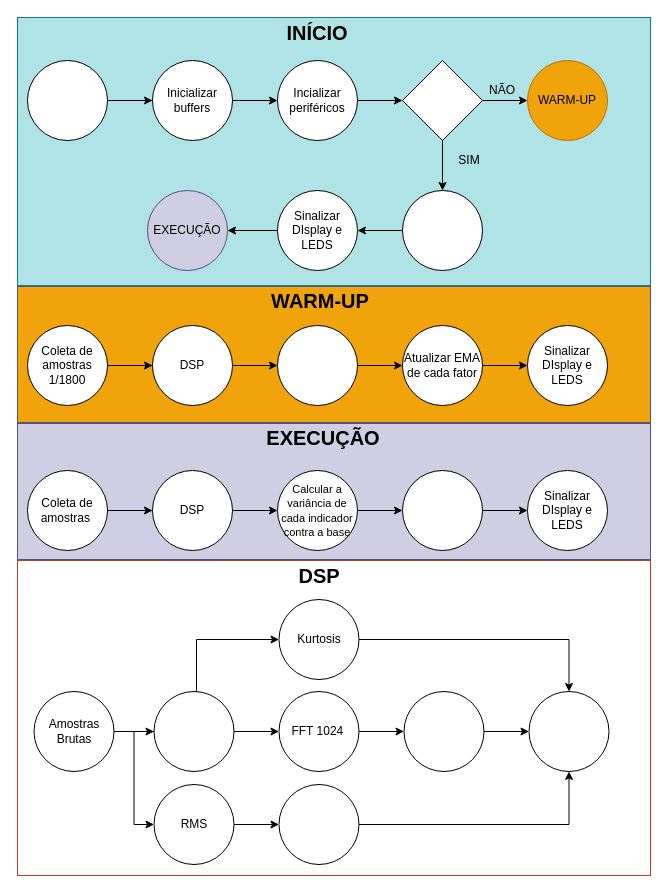
The diagram is 668 pixels wide and 893 high, and some of its shapes have lost their labels. The shapes that lost their labels are listed below. From the top down, each one's centre as x and y in pixels, then its label:
At pixel 67 100: "INIT".
At pixel 442 100: "valores existentes?".
At pixel 442 230: "Carregar dados do EMA".
At pixel 317 365: "Receber indicadores".
At pixel 442 510: "Verifica se a maioria aponta o erro".
At pixel 193 731: "Janela de Hanning".
At pixel 443 731: "Bin 1xRPM".
At pixel 568 731: "Indicadores salvos".
At pixel 318 824: "Fator de Crista".
